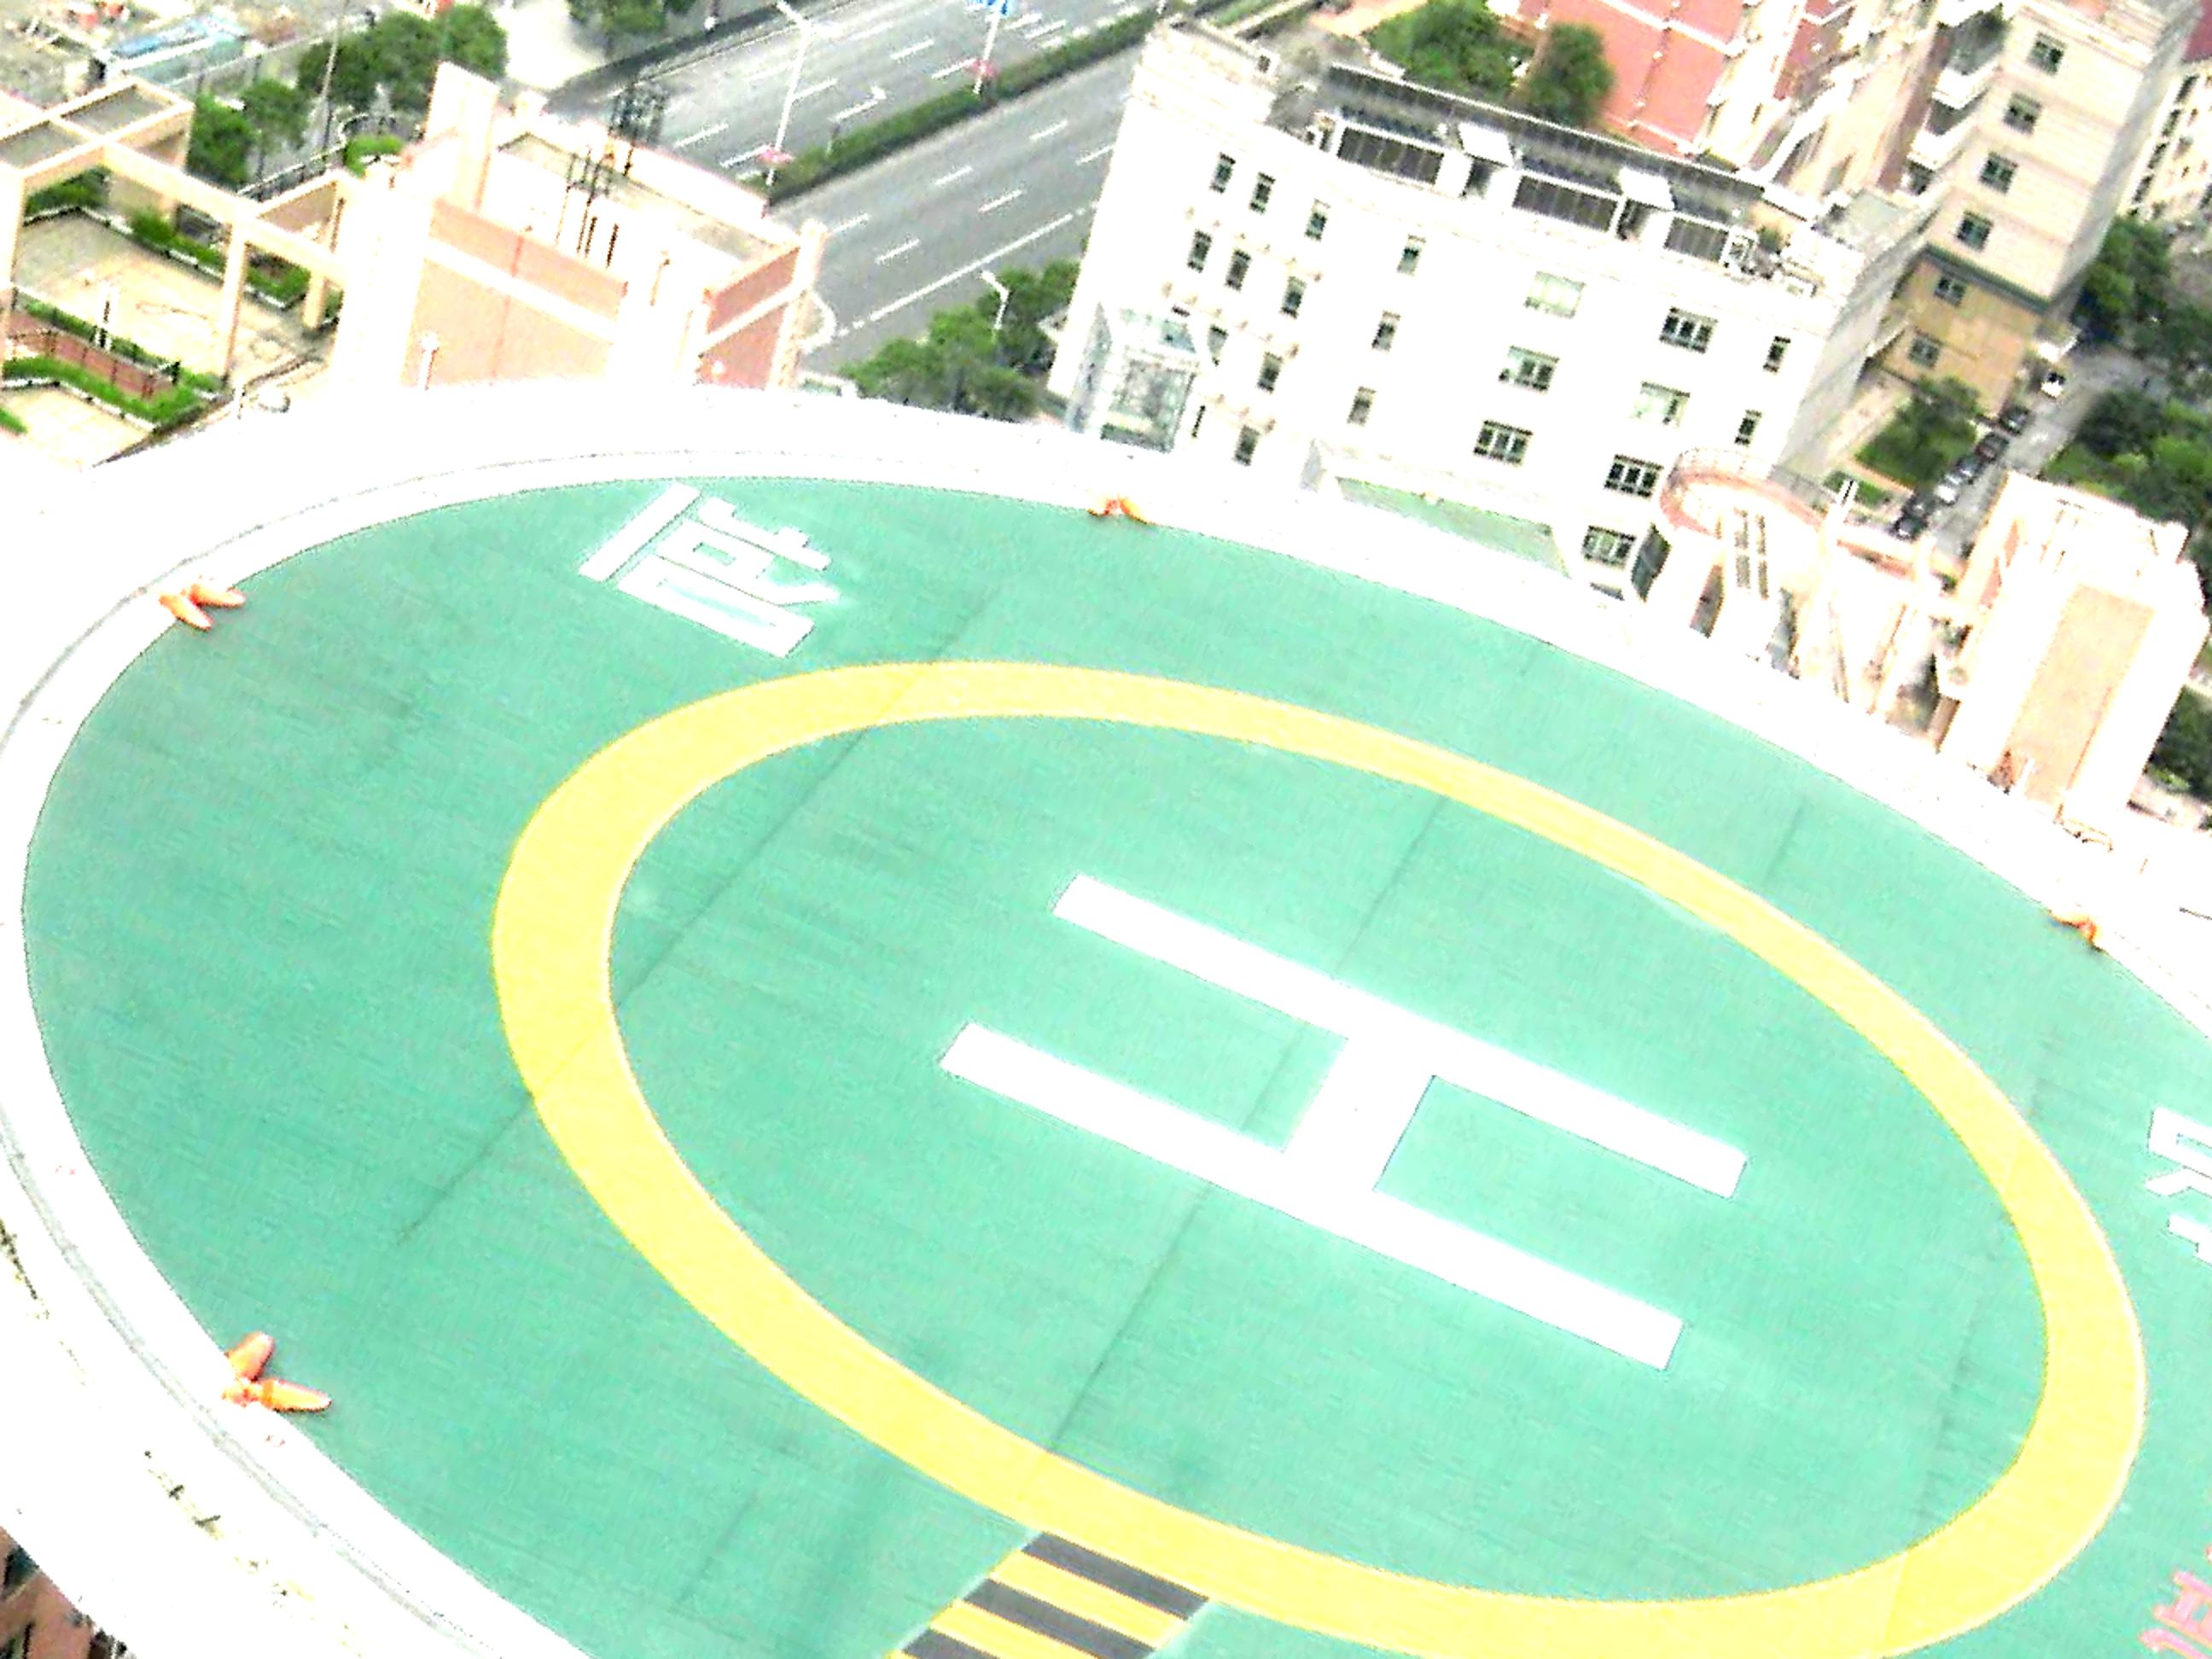Apron: (455, 561, 2207, 1659)
